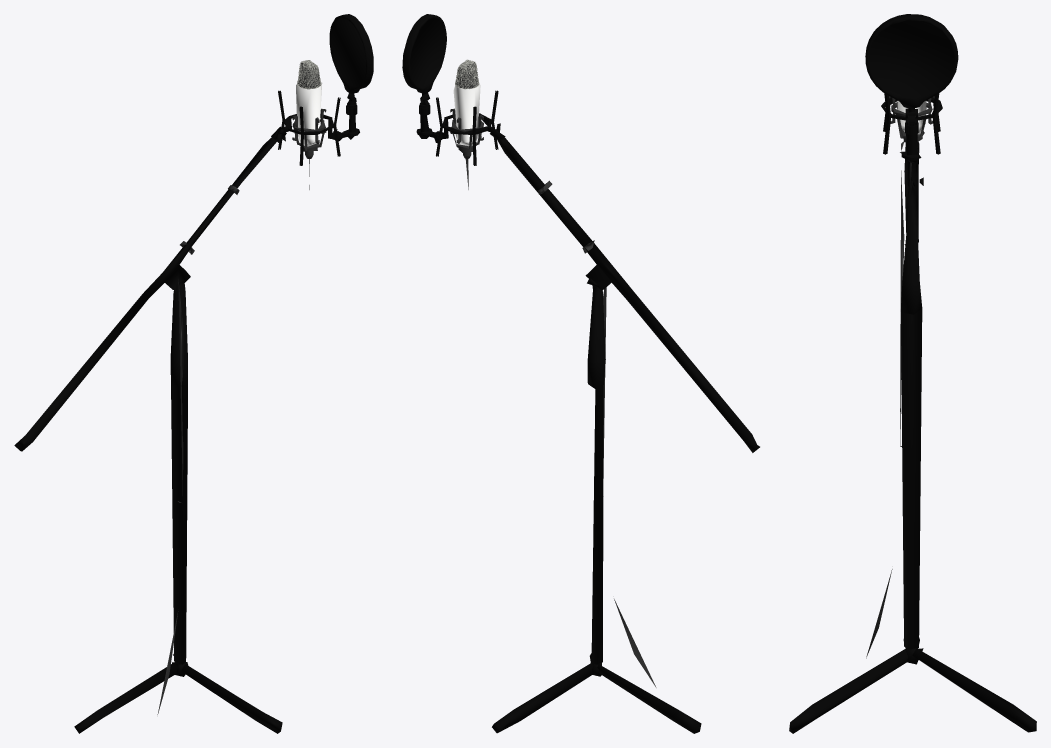
File: mic-transformed.glb
The picture shows the model from 3 angles, left to right: view 1: azimuth 30°, elevation 25°; view 2: azimuth 150°, elevation 25°; view 3: azimuth 270°, elevation 25°; orthographic projection. The views are drawn at different scales.
Parts seen in each view (by area): view 1: Object_6, Object_4; view 2: Object_6, Object_4; view 3: Object_6, Object_4.
Boxes of the visible parts, x1,y1,x2,y2 form: Object_6: (14,62,359,733); Object_4: (297,14,373,93); Object_6: (416,62,759,733); Object_4: (402,14,479,93); Object_6: (789,93,1036,733); Object_4: (865,14,958,108).
Bounding box in the file's own units: 1.59 × 2.87 × 0.8164.
2 materials, 2 textured.
